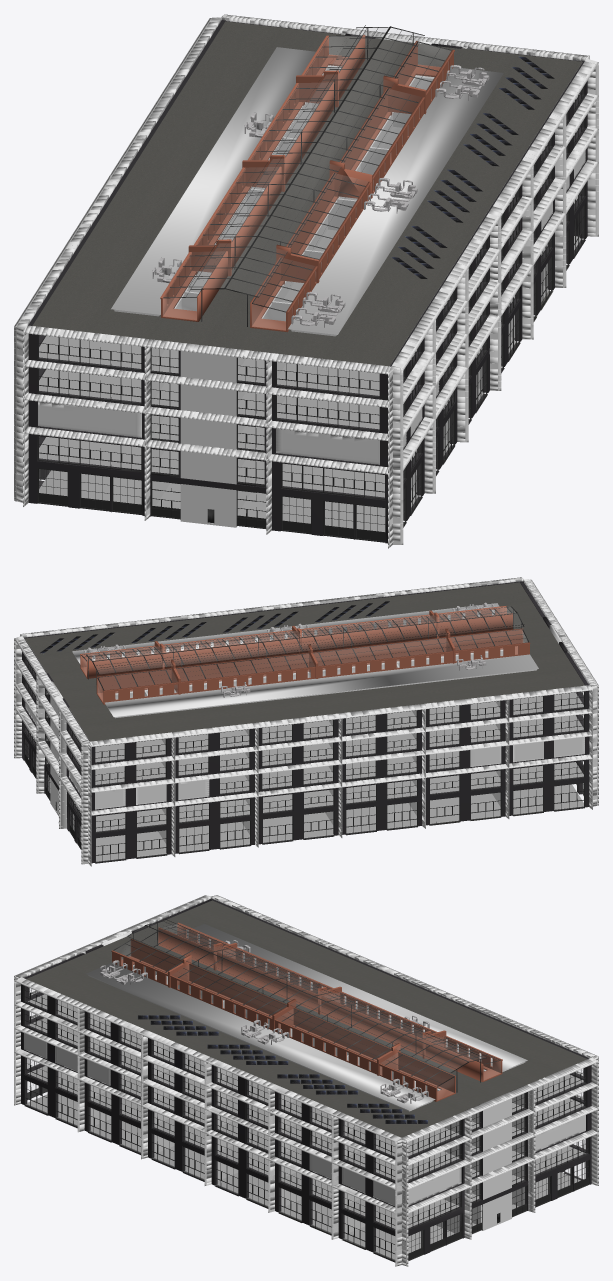
File: fik-building.glb
The picture shows the model from 3 angles, top to bottom: view 1: azimuth 30°, elevation 25°; view 2: azimuth 150°, elevation 25°; view 3: azimuth 270°, elevation 25°; orthographic projection. The views are drawn at different scales.
Visible parts, largest first — view 1: Plane.003; view 2: Plane.003; view 3: Plane.003.
Boxes of the visible parts, bbox=[...] form: Plane.003: bbox=[14, 14, 598, 548]; Plane.003: bbox=[14, 577, 598, 866]; Plane.003: bbox=[14, 895, 598, 1266].
Bounding box in the file's own units: 110 × 31.56 × 110.
Materials: 16 (5 with a texture image).
